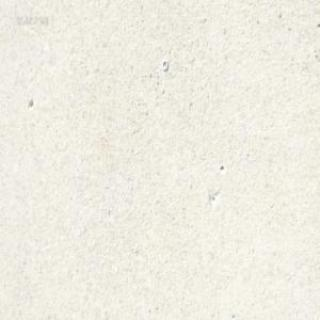Washertrack_idkeyframe: (160, 60, 168, 71)
